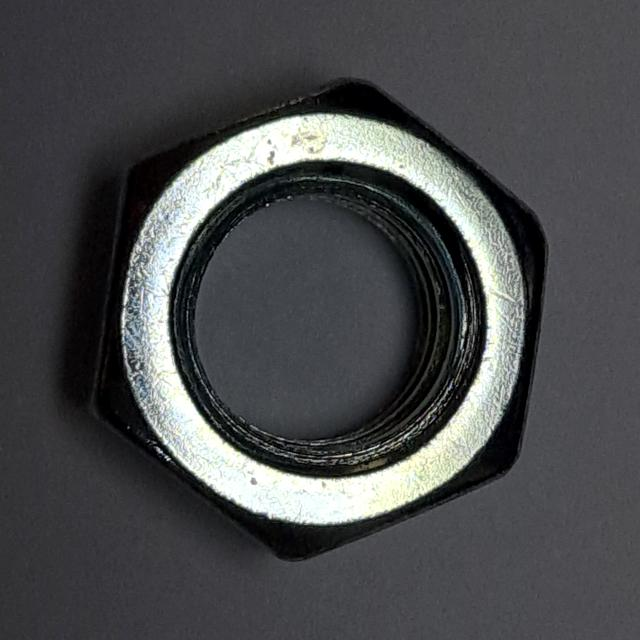Excellent: (77, 51, 557, 568)
